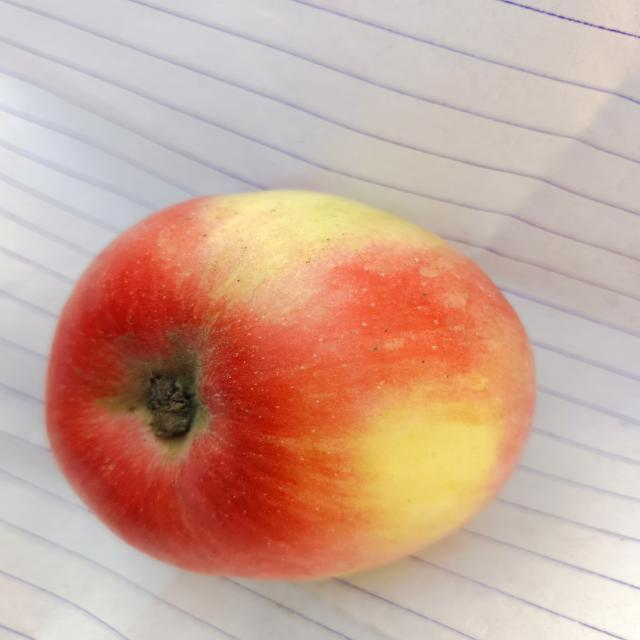Fresh Apple: (55, 195, 523, 570)
